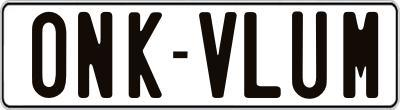0: (32, 12, 72, 98)
K: (128, 11, 163, 97)
L: (241, 9, 278, 97)
M: (341, 11, 379, 101)
N: (75, 10, 110, 101)
U: (291, 8, 332, 99)
V: (197, 9, 240, 101)
